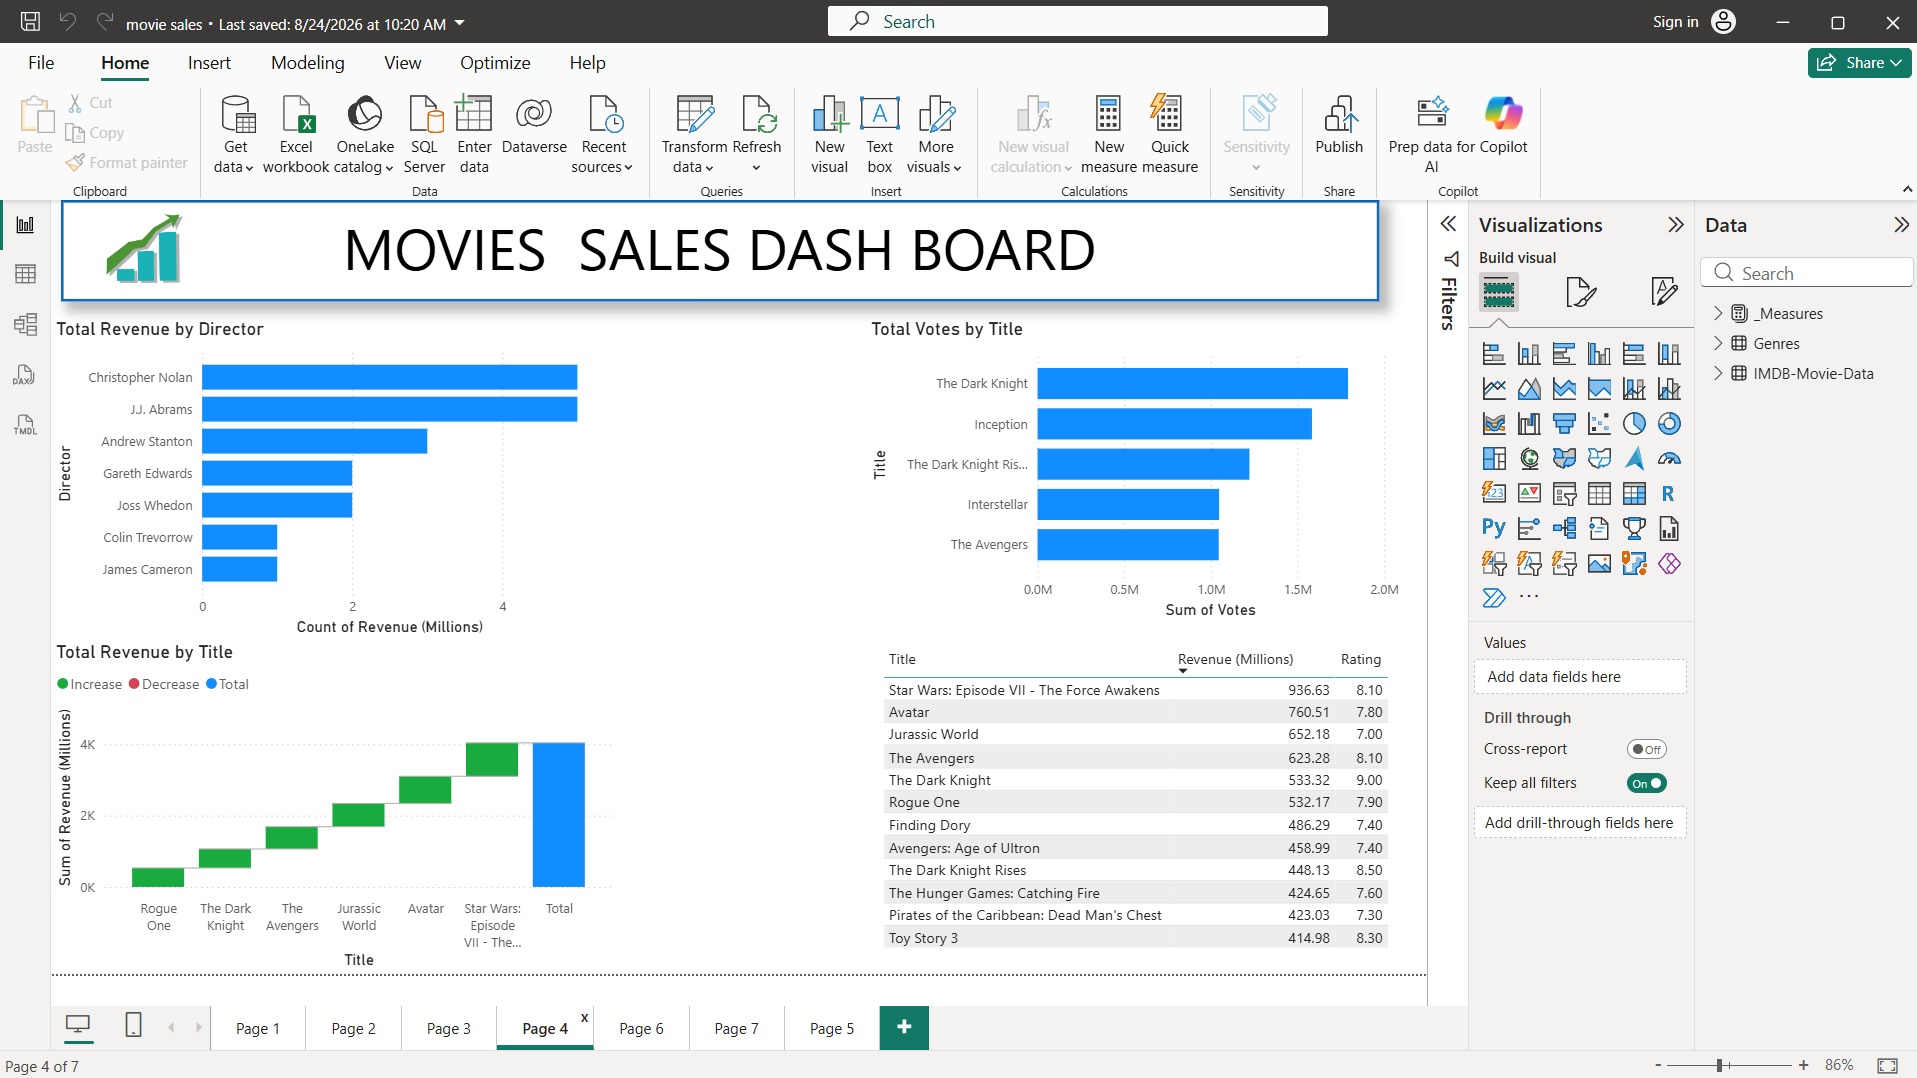

The dashboard page shown, as its layout file describes it:
{"tool":"powerbi","page":{"name":"Page 4","canvas":[1280,720],"ordinal":3},"visuals":[{"type":"clusteredBarChart","title":"Total Revenue by Director","fields":{"Category":["IMDB-Movie-Data.Director"],"Y":["CountNonNull(IMDB-Movie-Data.Revenue (Millions))"]},"box":[0,109.3,498.8,301.2],"z":0},{"type":"barChart","title":"Total Votes by Title","fields":{"Category":["IMDB-Movie-Data.Title"],"Y":["Sum(IMDB-Movie-Data.Votes)"]},"box":[758.1,109.3,501.2,284.9],"z":1000},{"type":"waterfallChart","title":"Total Revenue by Title","fields":{"Category":["IMDB-Movie-Data.Title"],"Y":["Sum(IMDB-Movie-Data.Revenue (Millions))"]},"box":[0,410.5,527.9,309.3],"z":2000},{"type":"tableEx","fields":{"Values":["IMDB-Movie-Data.Title","IMDB-Movie-Data.Revenue (Millions)","IMDB-Movie-Data.Rating"]},"box":[768.6,410.5,490.7,298.8],"z":3000},{"type":"textbox","box":[9.3,0,1226.7,94.2],"z":4000},{"type":"image","box":[0,3.5,169.8,80.2],"z":5000}]}

Visuals, with their boxes on the page's 1280x720 design canvas (x1, y1, x2, y2). These are canvas units, not pixel positions in the 1917x1078 screenshot, which may show the page scaled, cropped or inside an application window:
"Total Revenue by Director" clusteredBarChart: region(0, 109, 499, 410)
"Total Votes by Title" barChart: region(758, 109, 1259, 394)
"Total Revenue by Title" waterfallChart: region(0, 410, 528, 720)
tableEx - IMDB-Movie-Data.Title x IMDB-Movie-Data.Revenue (Millions): region(769, 410, 1259, 709)
textbox: region(9, 0, 1236, 94)
image: region(0, 4, 170, 84)
